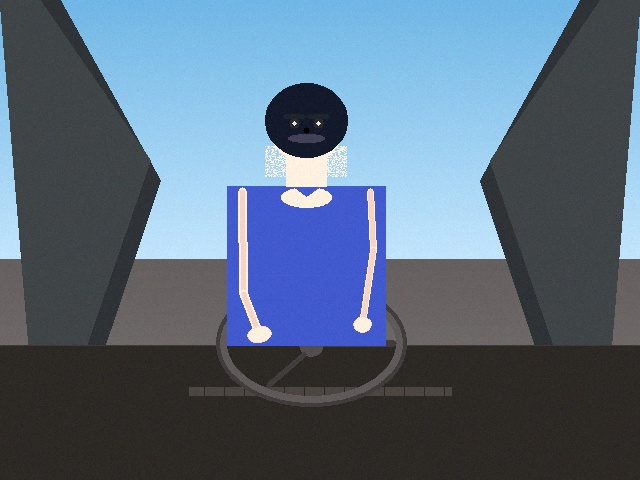normal_driving: (91, 197, 311, 343)
